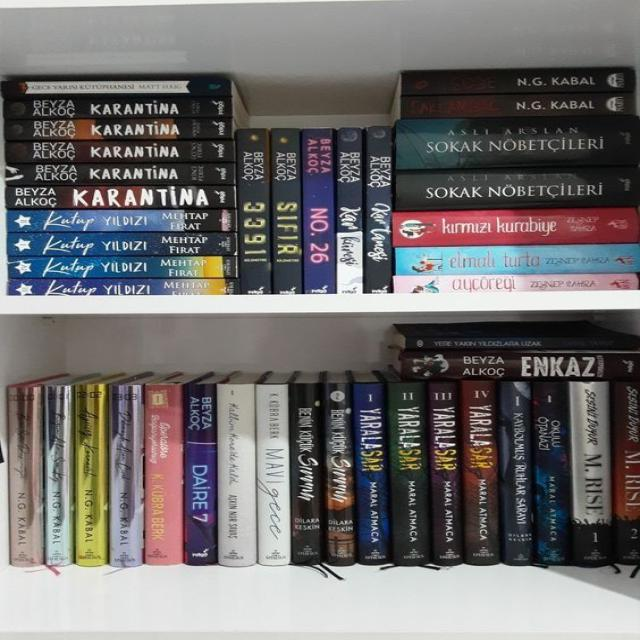book: (394, 120, 640, 169), (396, 170, 640, 211), (393, 208, 639, 247), (388, 383, 431, 565), (570, 380, 612, 566), (396, 244, 640, 276), (217, 383, 256, 568), (354, 382, 393, 565), (462, 382, 500, 564), (400, 351, 640, 379), (533, 381, 569, 564), (8, 384, 44, 566), (146, 384, 182, 565), (255, 384, 290, 566), (183, 384, 217, 568), (109, 385, 143, 566), (400, 69, 635, 95), (428, 383, 461, 566), (289, 383, 322, 565), (500, 382, 532, 565), (401, 93, 635, 118), (324, 383, 356, 565), (75, 386, 107, 568), (301, 129, 336, 293), (238, 128, 271, 294), (44, 386, 74, 566), (4, 141, 236, 164), (7, 233, 237, 256), (6, 210, 238, 232), (613, 382, 640, 564), (3, 98, 234, 119), (7, 257, 236, 278), (5, 119, 233, 140), (271, 129, 300, 293), (365, 126, 393, 293), (393, 274, 639, 293), (5, 165, 238, 185), (6, 188, 238, 208), (337, 128, 363, 294), (0, 80, 231, 97), (8, 280, 237, 295), (406, 337, 640, 348)
